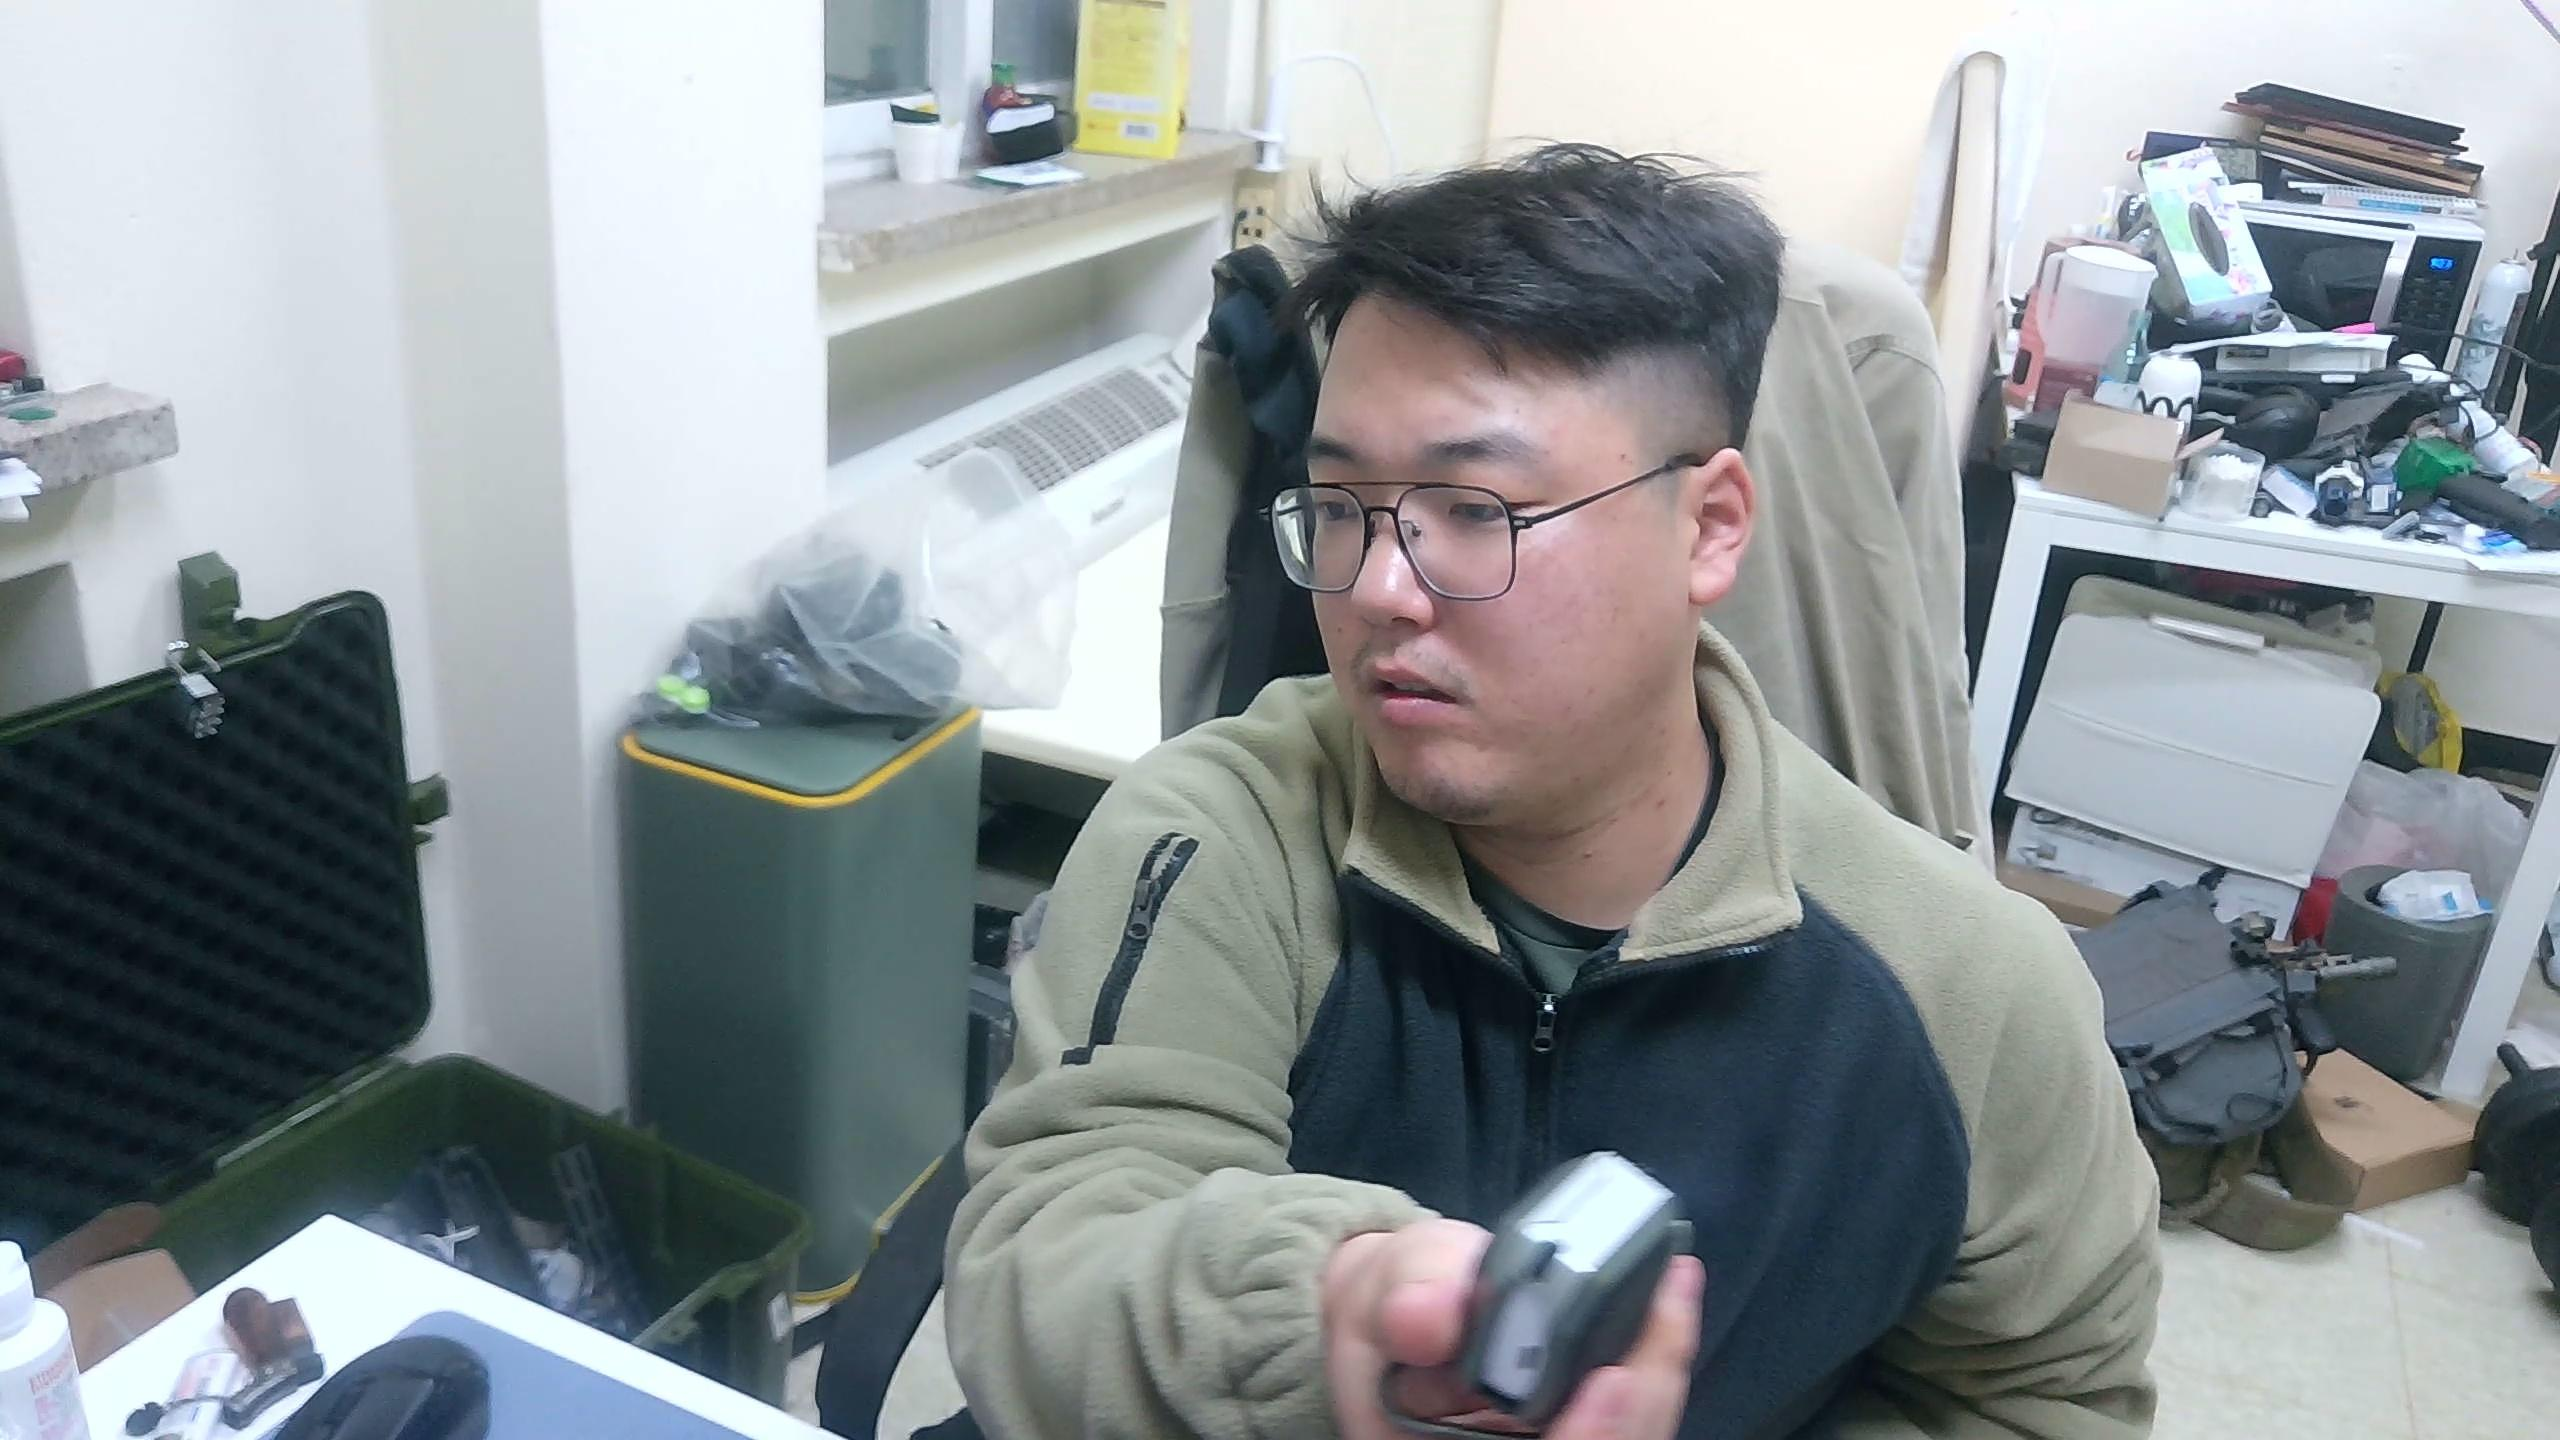blue_pliers: (1456, 1146, 1697, 1429)
